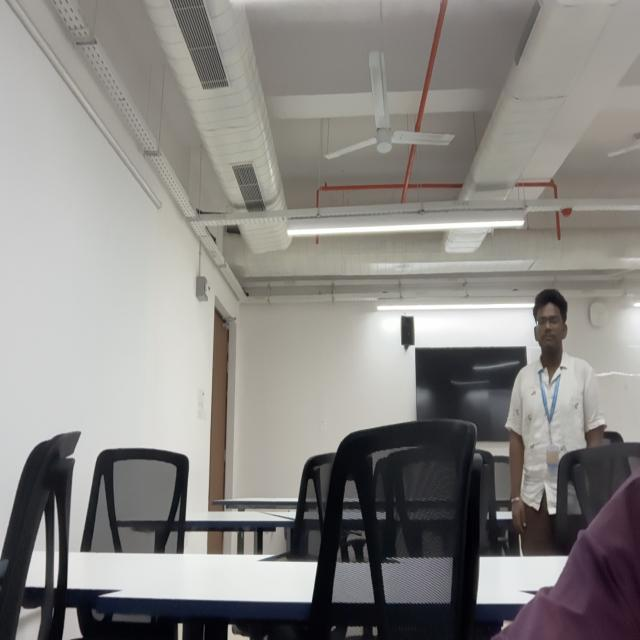sai: (534, 281, 568, 363)
